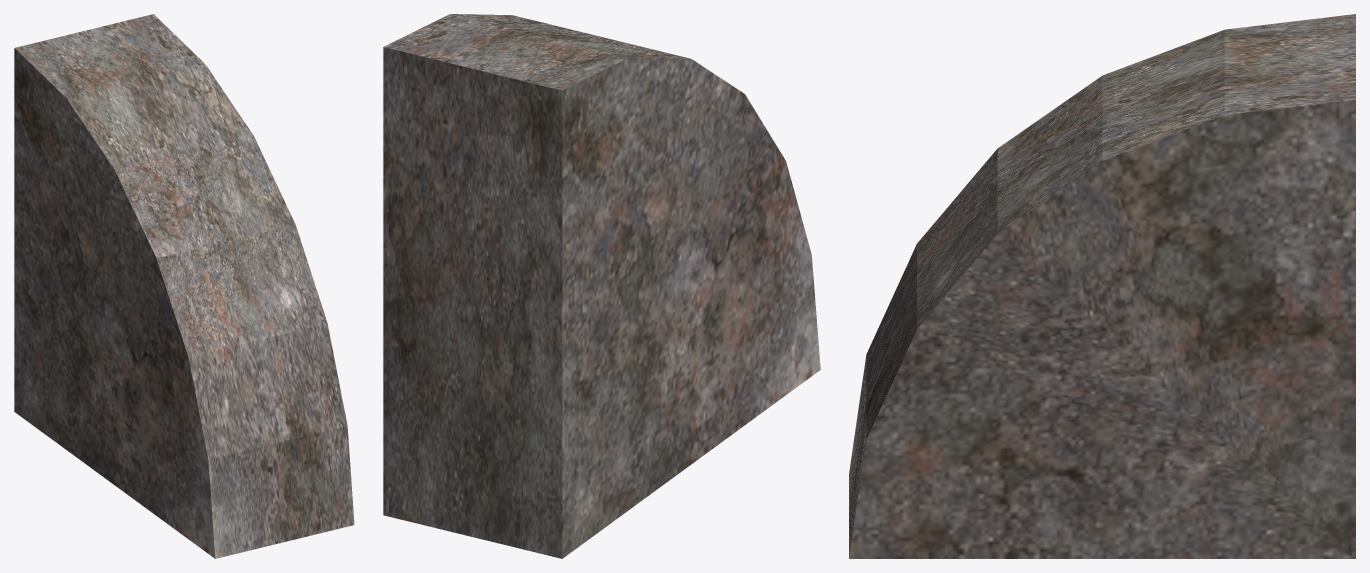
Rendered from GearHolder.fbx.
3 views of the same model, side by side, from view 1: azimuth 30°, elevation 25°; view 2: azimuth 150°, elevation 25°; view 3: azimuth 270°, elevation 25° (orthographic). The views are drawn at different scales.
Parts seen in each view (by area): view 1: GearHolderLeft2; view 2: GearHolderLeft2; view 3: GearHolderLeft2.
Part boxes in pixels (x1,y1,x2,y2): GearHolderLeft2: (14,14,354,558); GearHolderLeft2: (383,14,820,558); GearHolderLeft2: (849,14,1355,558).
Bounding box in the file's own units: 8.91 × 22.28 × 22.28.
1 material, 1 textured.
